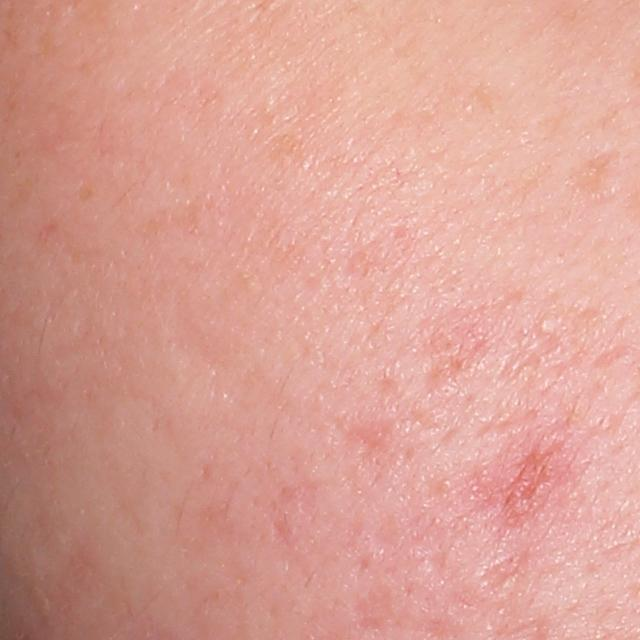atrophic_scar: (498, 433, 567, 514), (331, 417, 397, 479), (347, 577, 399, 639), (477, 549, 527, 598), (269, 514, 297, 554)
comedo: (534, 315, 555, 336)
melasma: (567, 141, 628, 201)
